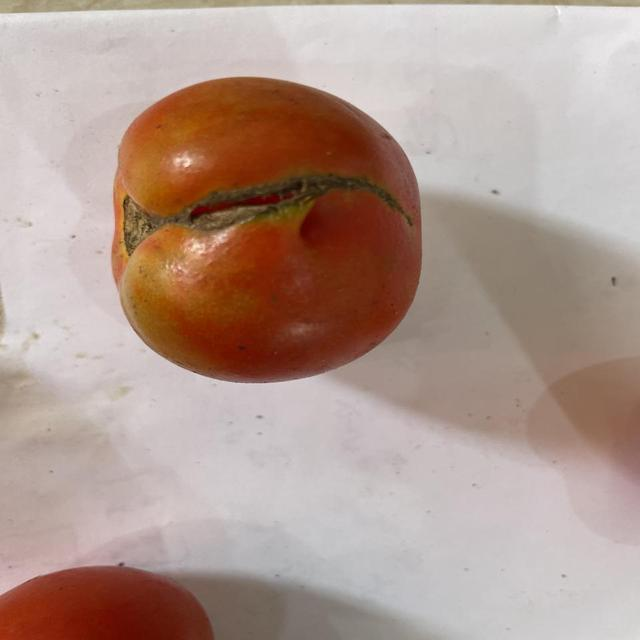Cracking Fruit: (134, 45, 235, 181)
